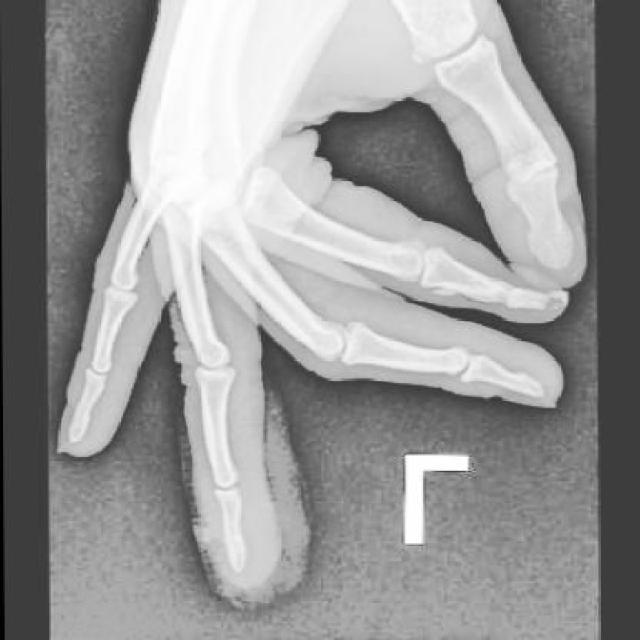Fracture: (529, 288, 568, 316)
